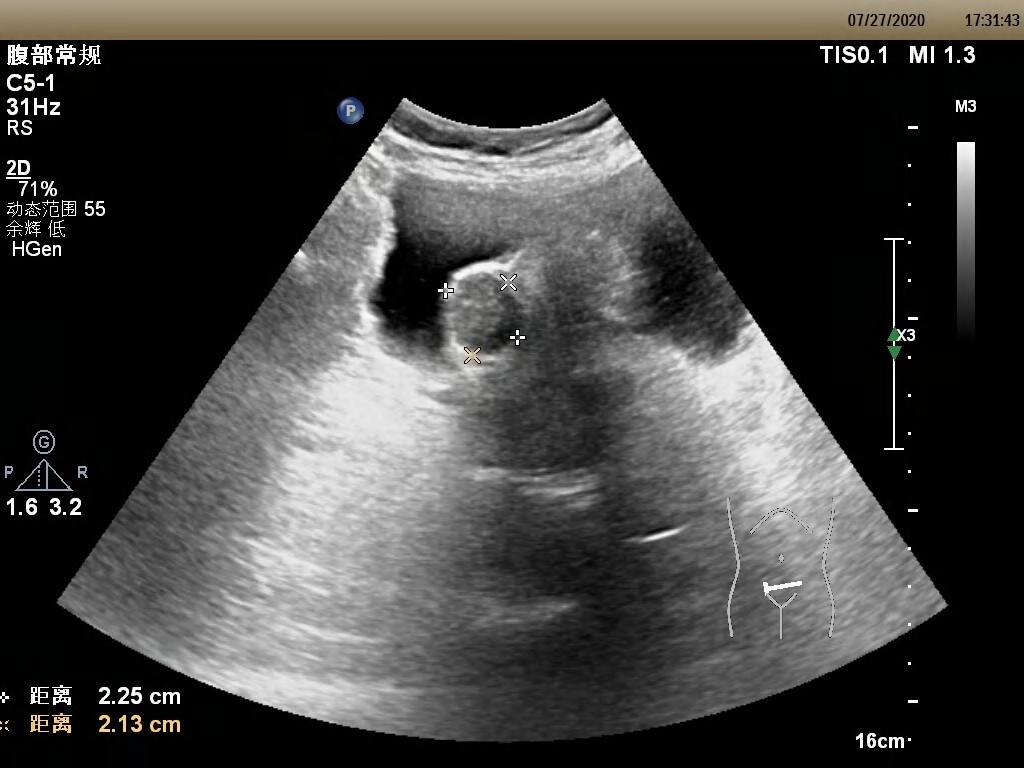肌瘤: (446, 281, 518, 354)
